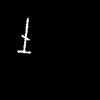double_crochet: (18, 18, 30, 52)
